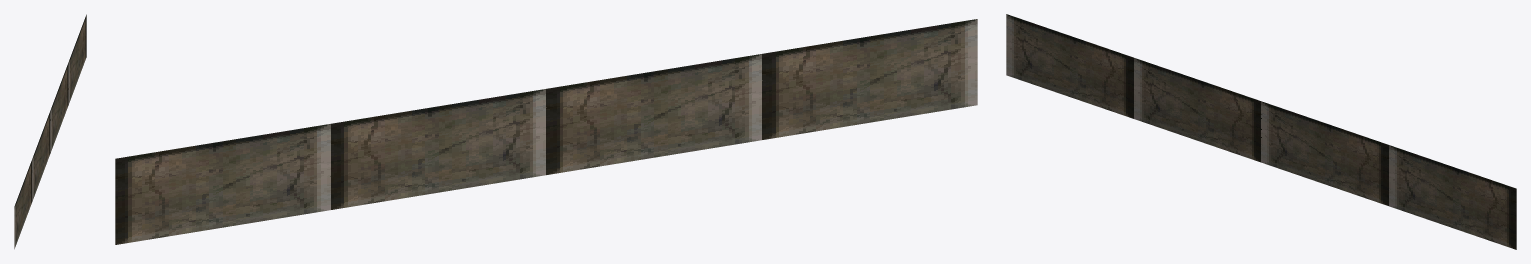
The model's file is CH09_SMAUG_PLAYSURFACE_LAIR48.fbx.
The picture shows the model from 3 angles, left to right: view 1: azimuth 30°, elevation 25°; view 2: azimuth 150°, elevation 25°; view 3: azimuth 270°, elevation 25°; orthographic projection. The views are drawn at different scales.
Parts seen in each view (by area): view 1: CH09_SMAUG_PLAYSURFACE_LAIR48; view 2: CH09_SMAUG_PLAYSURFACE_LAIR48; view 3: CH09_SMAUG_PLAYSURFACE_LAIR48.
Part boxes in pixels (box(x1,y1,x2,y2)): CH09_SMAUG_PLAYSURFACE_LAIR48: box(14, 14, 86, 249); CH09_SMAUG_PLAYSURFACE_LAIR48: box(115, 19, 977, 244); CH09_SMAUG_PLAYSURFACE_LAIR48: box(1006, 14, 1516, 249).
Bounding box in the file's own units: 37258 × 6106 × 45999.
1 material, 1 textured.
